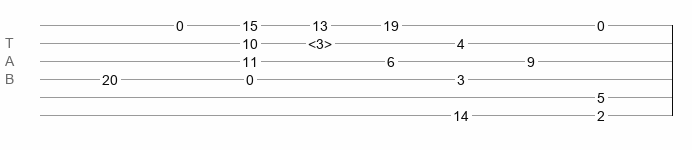0: (176, 18, 184, 28), (246, 72, 254, 82), (597, 18, 605, 28)
10: (242, 36, 258, 46)
11: (242, 54, 258, 64)
13: (312, 18, 328, 28)
14: (453, 108, 469, 118)
15: (242, 18, 258, 28)
19: (383, 18, 399, 28)
2: (597, 108, 605, 118)
20: (102, 72, 118, 82)
3: (457, 72, 465, 82)
4: (457, 36, 465, 46)
5: (597, 90, 605, 100)
6: (387, 54, 395, 64)
9: (527, 54, 535, 64)
harmonic: (308, 36, 332, 46)
